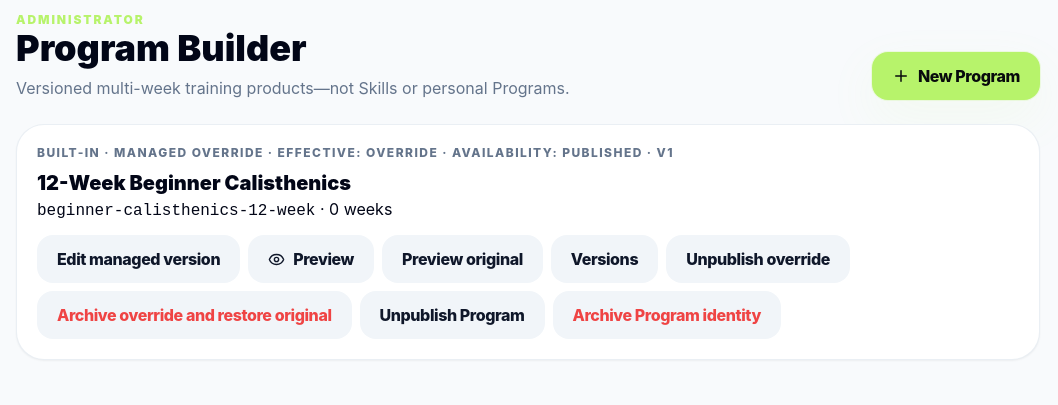
it: Admin Managed Program lifecycle UI › unpublishes the database override once, reloads canonical state, and shows built-in fallback
Click the button "Unpublish override" at [758, 259], box [666,235,850,283]
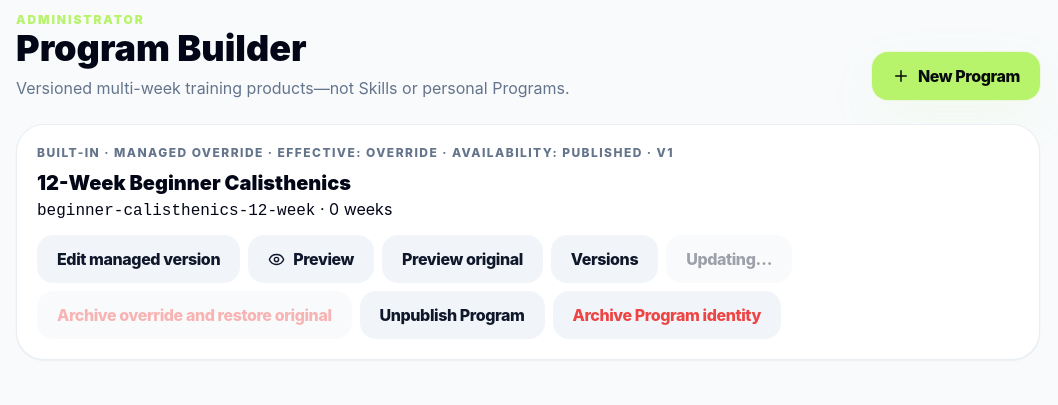
Click the button named "Unpublish override" at [729, 259], box [666,235,792,283]
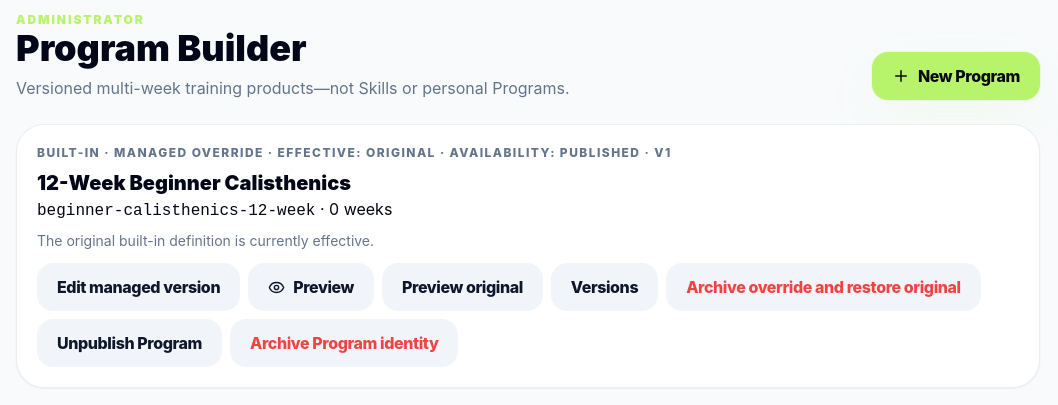
Expected: the button "Unpublish override" is not shown
Expected: the text "The original built-in definition is currently effective." is shown, [37,232,374,249]
